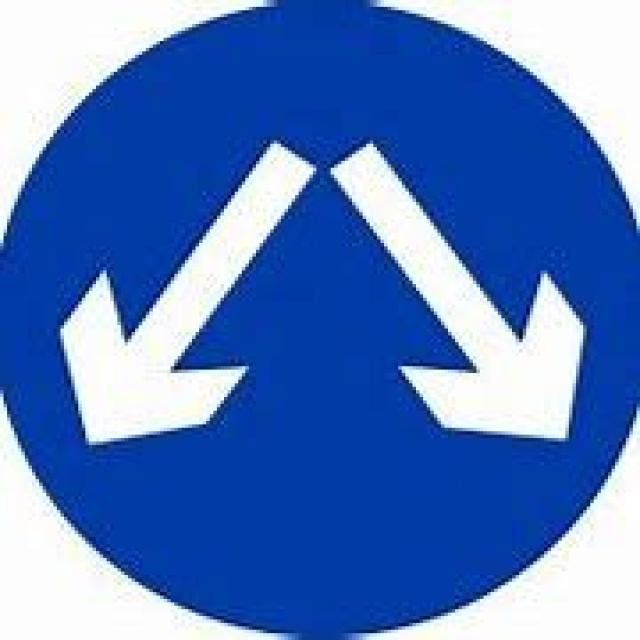no_overtaking: (0, 0, 636, 636)
